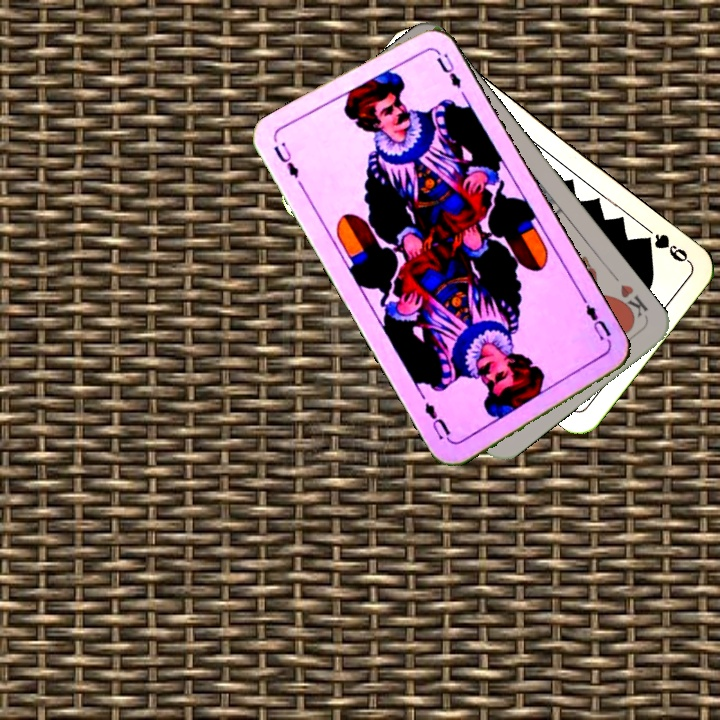EU: (579, 295, 615, 350), (269, 138, 302, 180)
G9: (636, 229, 693, 266)
HK: (610, 280, 651, 324)
